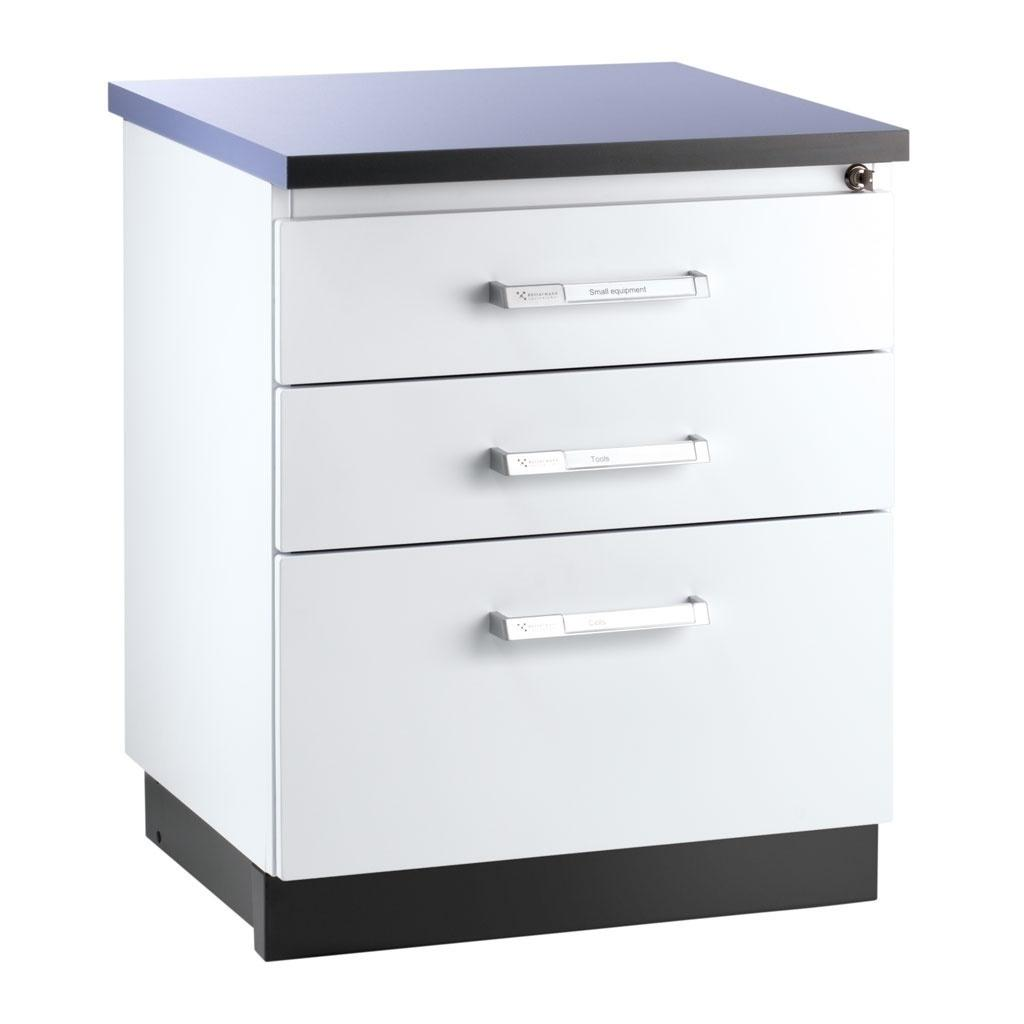cabinet_door: (287, 537, 901, 847), (288, 203, 895, 367), (277, 375, 875, 536)
handle: (475, 588, 714, 651), (473, 269, 720, 322), (476, 432, 705, 485)
